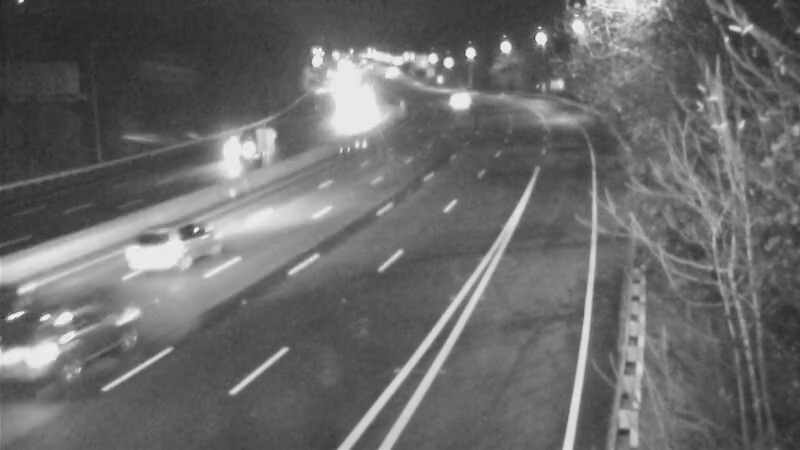vehicle: (4, 293, 114, 403), (123, 211, 203, 291), (434, 73, 484, 123), (209, 120, 259, 170)
